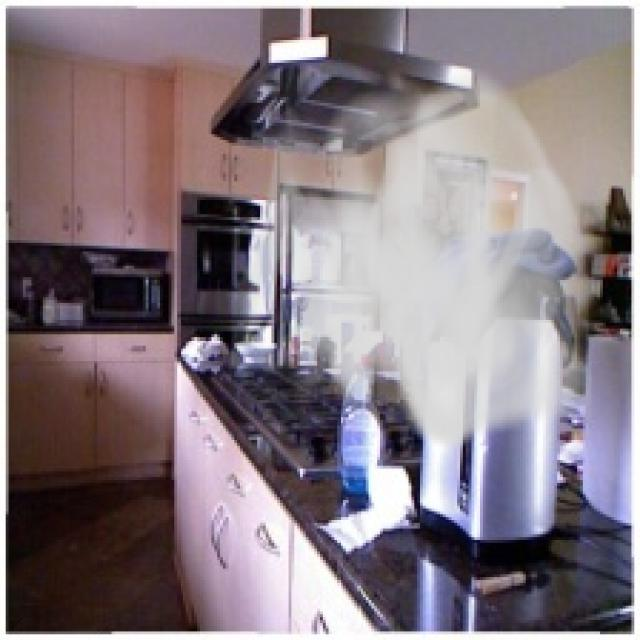smoke: (226, 57, 603, 452)
